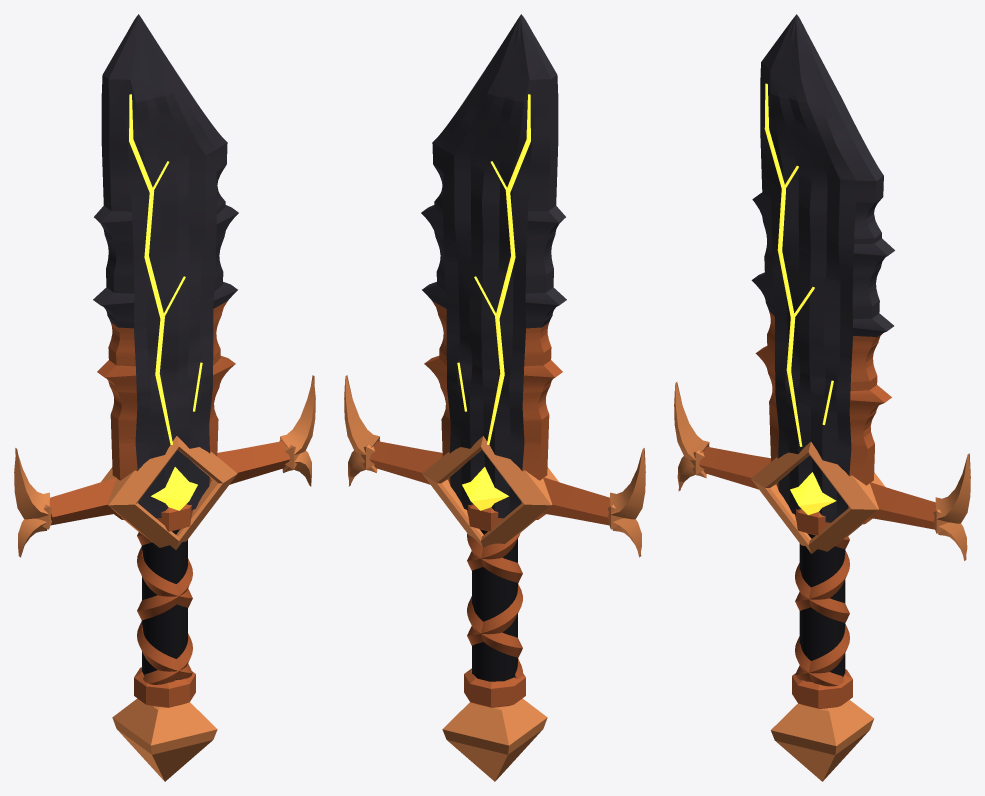
The model's file is EpeeBronzeCharbon.fbx.
3 views of the same model, side by side, from view 1: azimuth 30°, elevation 25°; view 2: azimuth 150°, elevation 25°; view 3: azimuth 330°, elevation 25° (orthographic).
Parts seen in each view (by area): view 1: Lame, Garde, Fil, Cadre, Pommeau, Embout, Tresse, Manche, Fissures, Gemme; view 2: Lame, Garde, Fil, Pommeau, Cadre, Embout, Tresse, Manche, Fissures, Gemme; view 3: Lame, Garde, Fil, Cadre, Pommeau, Embout, Manche, Tresse, Fissures, Gemme.
Part boxes in pixels (x1,y1,x2,y2): Lame: [93, 14, 238, 518]; Garde: [49, 441, 290, 707]; Fil: [97, 301, 235, 519]; Cadre: [101, 436, 237, 549]; Pommeau: [112, 698, 217, 781]; Embout: [14, 375, 315, 557]; Tresse: [137, 532, 192, 684]; Manche: [142, 529, 187, 679]; Fissures: [129, 94, 202, 444]; Gemme: [151, 467, 197, 510]; Lame: [421, 14, 566, 518]; Garde: [369, 441, 610, 707]; Fil: [424, 301, 562, 519]; Pommeau: [442, 698, 547, 781]; Cadre: [422, 436, 558, 547]; Embout: [344, 375, 645, 557]; Tresse: [467, 532, 522, 678]; Manche: [472, 529, 517, 681]; Fissures: [457, 94, 530, 444]; Gemme: [462, 467, 508, 510]; Lame: [751, 14, 894, 522]; Garde: [699, 446, 935, 708]; Fil: [755, 311, 891, 524]; Cadre: [751, 442, 885, 553]; Pommeau: [770, 700, 874, 781]; Embout: [674, 382, 970, 560]; Manche: [799, 533, 845, 681]; Tresse: [795, 536, 849, 686]; Fissures: [764, 83, 833, 446]; Gemme: [790, 472, 836, 515].
Size of the model in its own units: 172 by 423 by 48.
